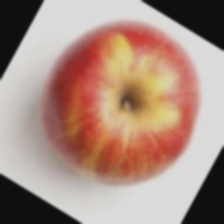apple: (39, 0, 181, 201)
